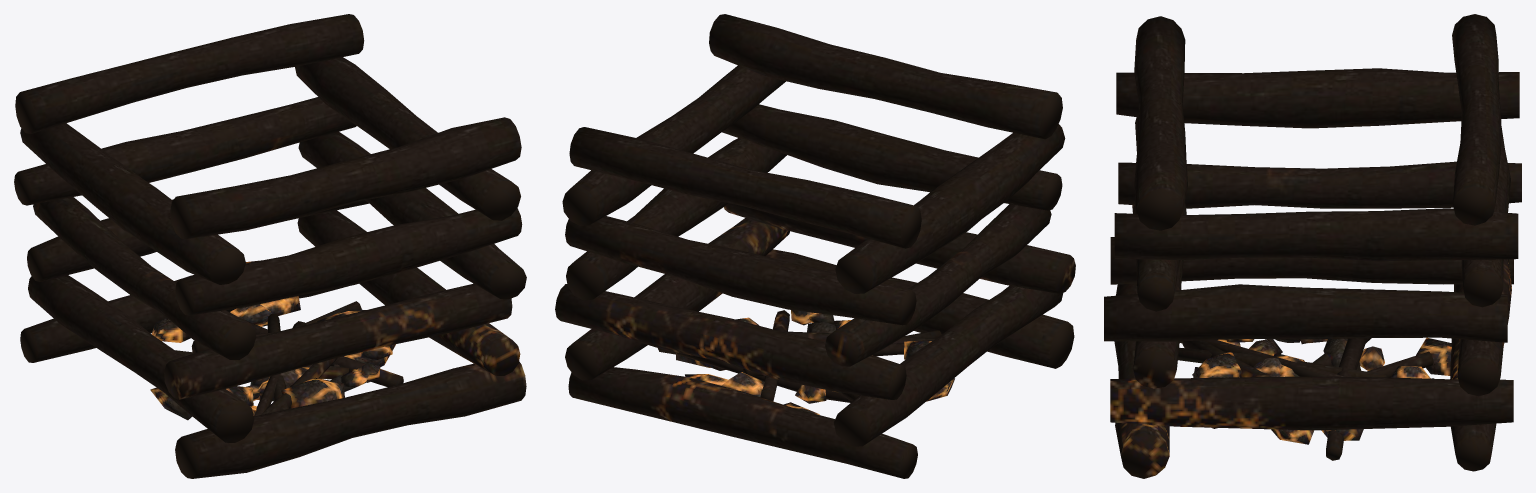
The model's file is base_P4_pira.glb.
3 views of the same model, side by side, from view 1: azimuth 30°, elevation 25°; view 2: azimuth 150°, elevation 25°; view 3: azimuth 270°, elevation 25° (orthographic). The views are drawn at different scales.
Parts seen in each view (by area): view 1: base_P4_pira; view 2: base_P4_pira; view 3: base_P4_pira.
Part boxes in pixels (left/top/right/bottom): base_P4_pira: left=14, top=14, right=526, bottom=478; base_P4_pira: left=555, top=14, right=1075, bottom=478; base_P4_pira: left=1104, top=14, right=1521, bottom=478.
Size of the model in its own units: 1.11 by 0.8749 by 1.1.
1 material, 1 textured.
